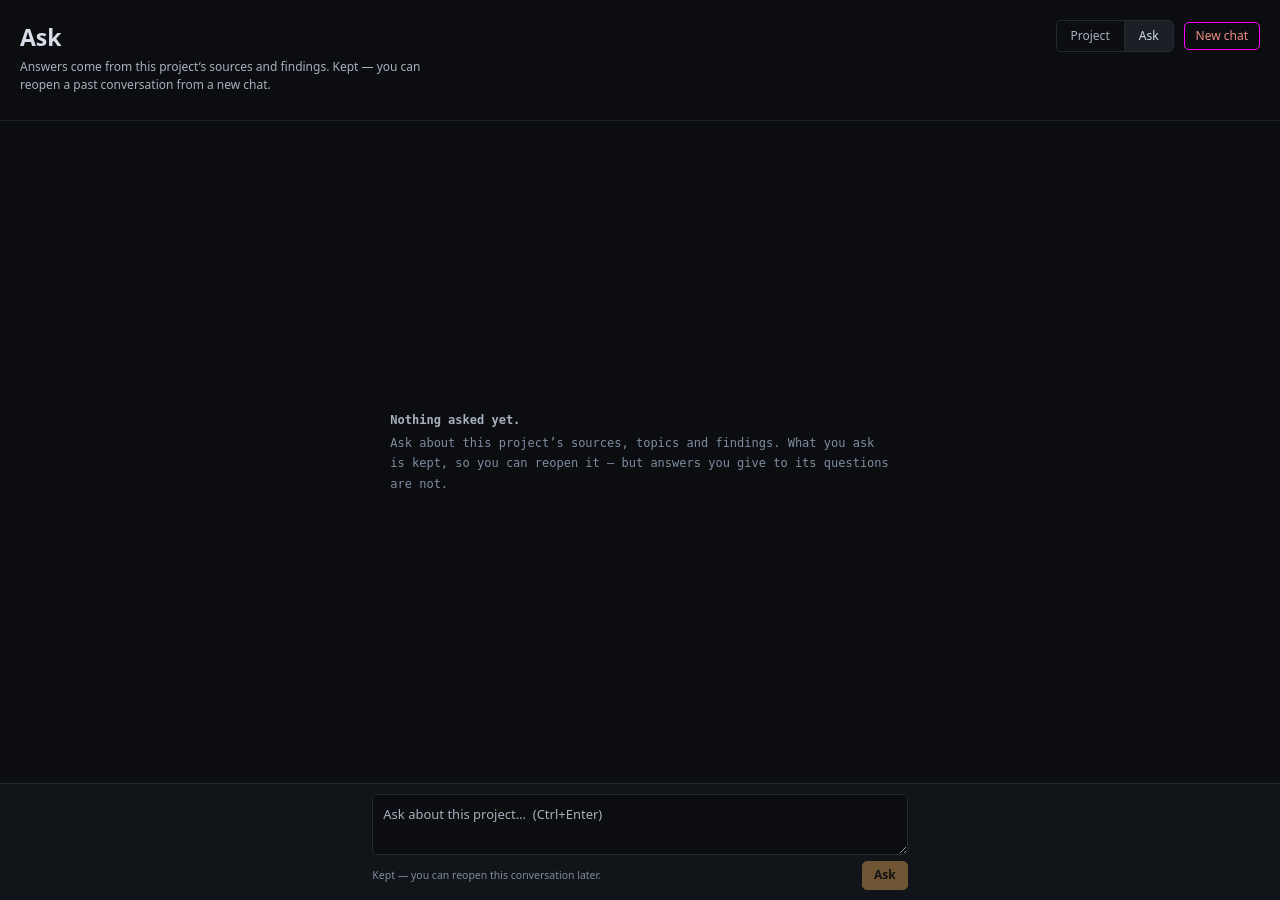
Test: surfaces a refusal to the reader
The width and height of the screenshot is (1280, 900).
Type "why?" into the text box at x=640, y=825, box top-left (372, 794), bottom-right (908, 855)
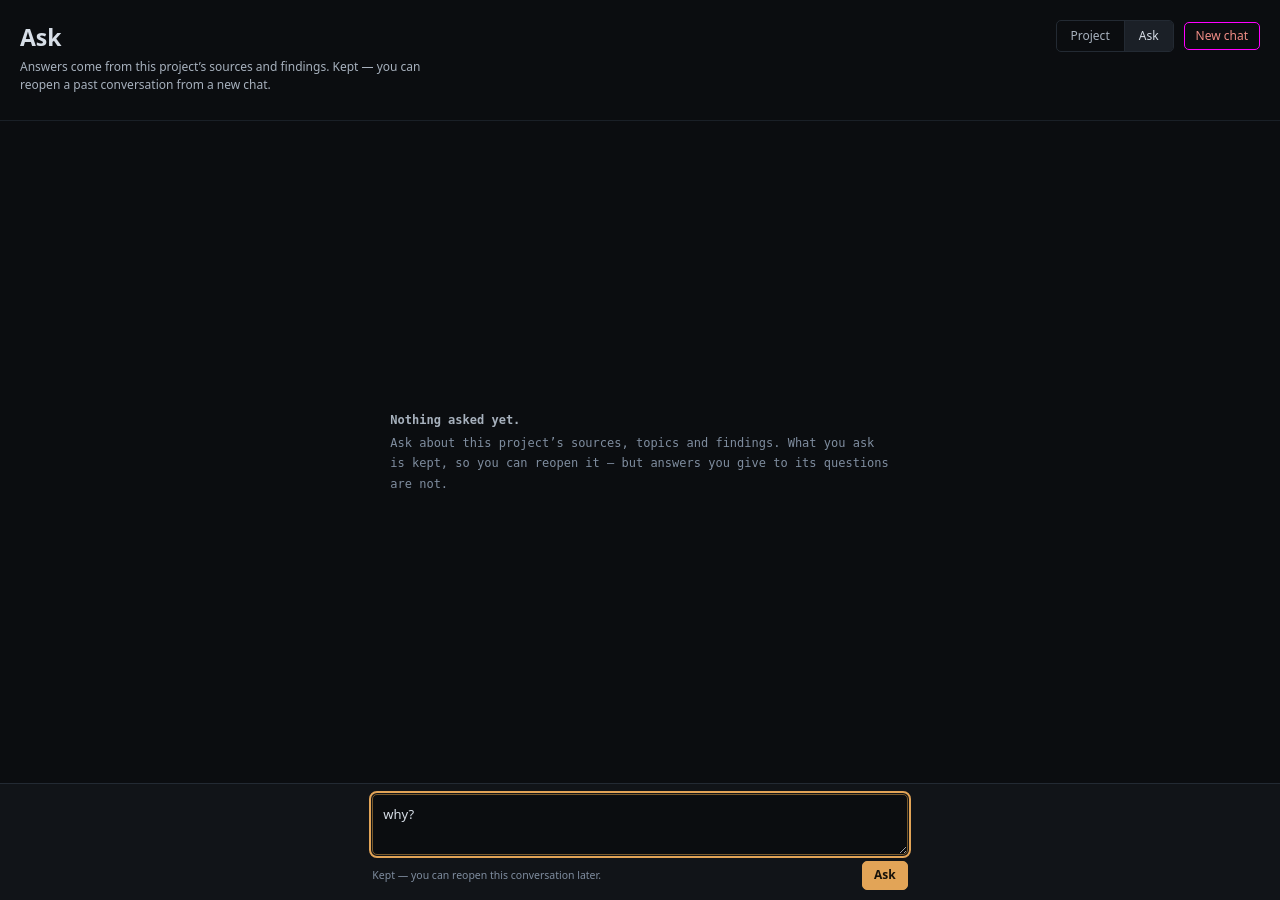
Click the button "Ask" at x=885, y=876, box top-left (862, 861), bottom-right (908, 890)
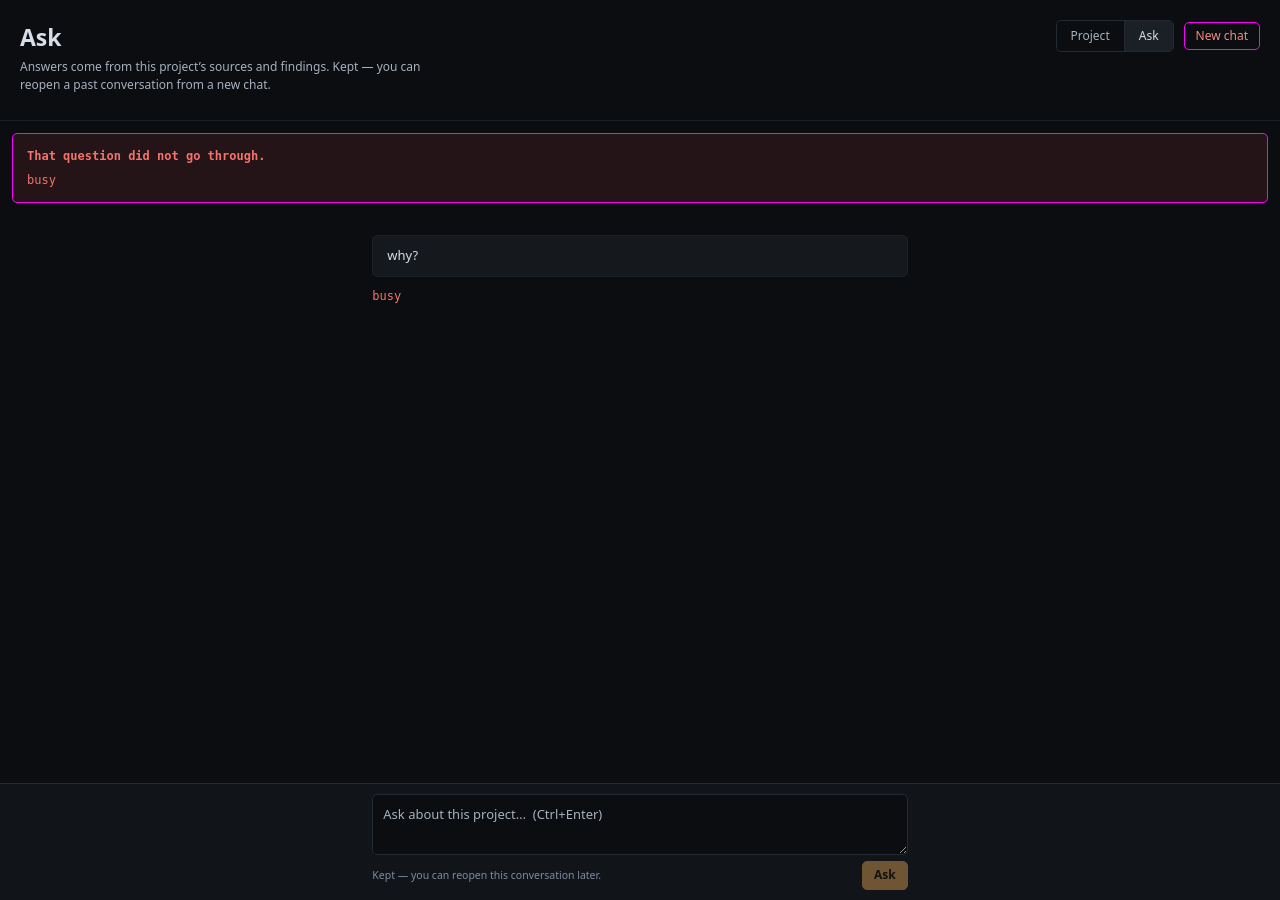
Expected: the message shows "busy", top-left (27, 173), bottom-right (56, 187)
Expected: the text "busy" is shown, top-left (372, 289), bottom-right (401, 303)
